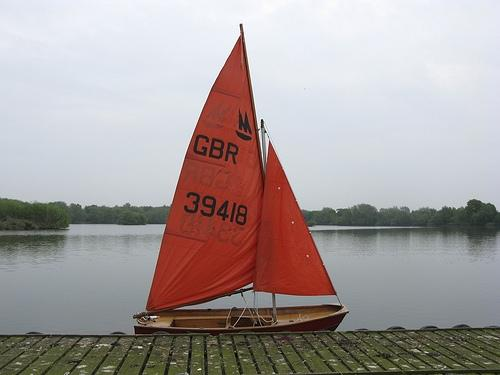Ship: (134, 24, 351, 335)
